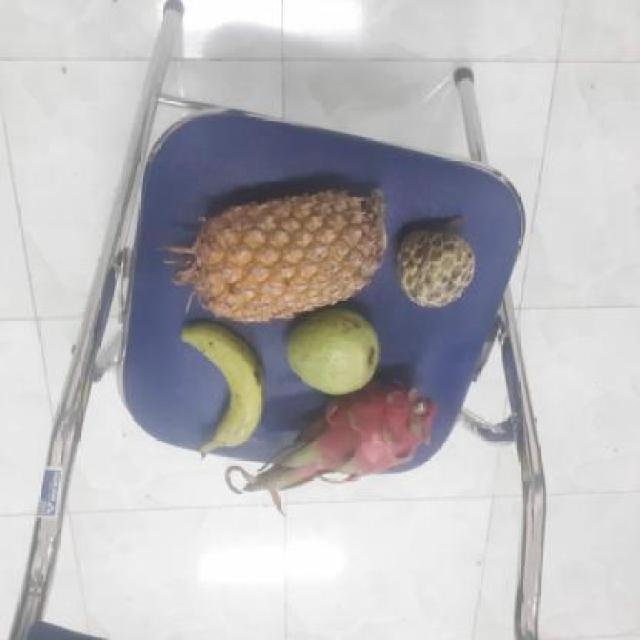banana: (173, 322, 265, 453)
dragon fruit: (268, 380, 432, 480)
guava: (279, 306, 383, 396)
pineapple: (180, 184, 382, 319)
sugar apple: (389, 222, 474, 306)
